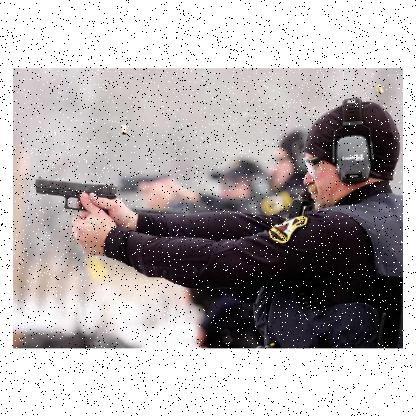gun: (31, 176, 118, 257)
